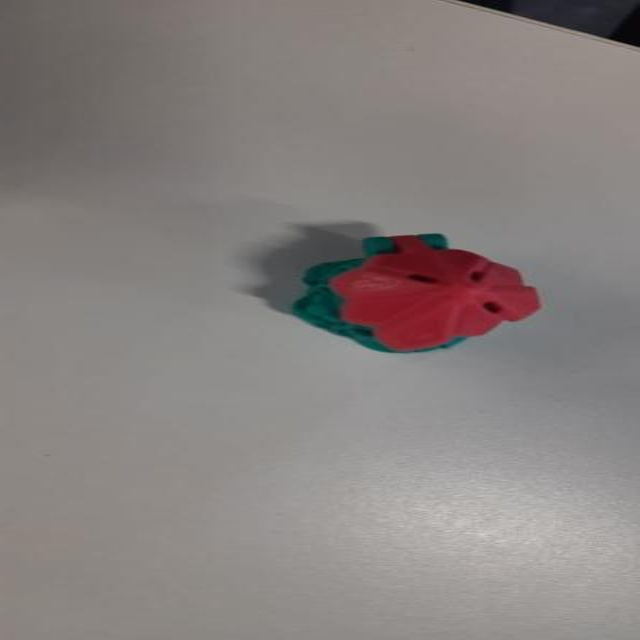House: (277, 235, 543, 361)
